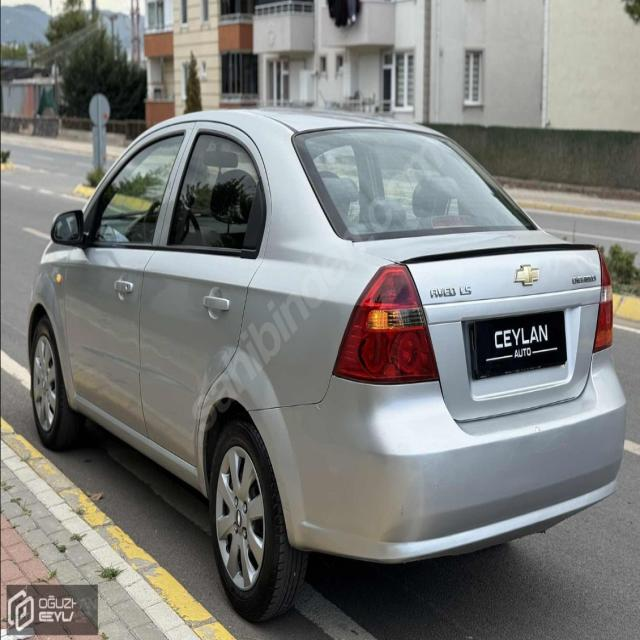chevrolet: (513, 260, 542, 290)
